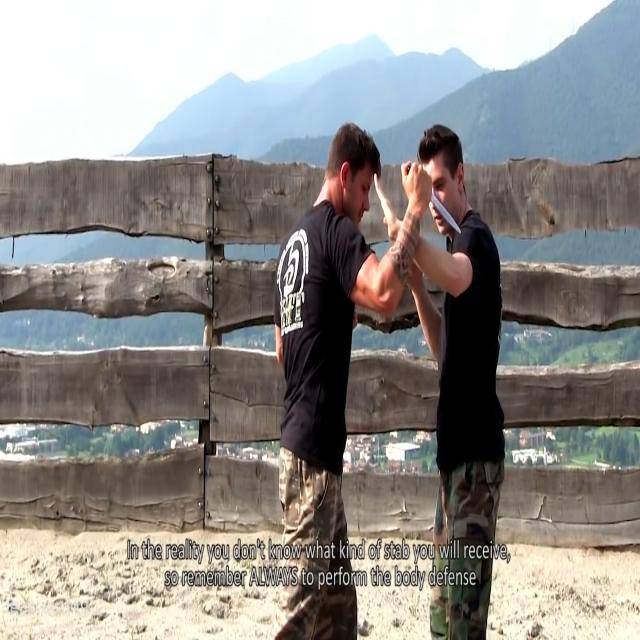knife: (432, 194, 466, 239)
